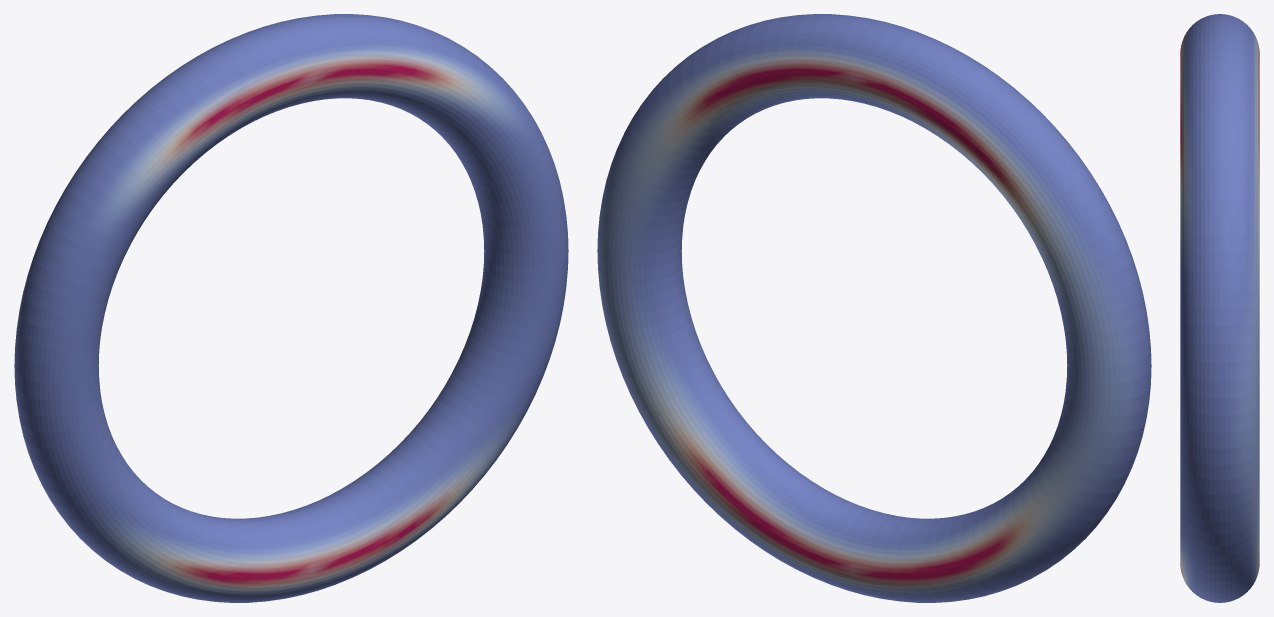
The picture shows the model from 3 angles, left to right: view 1: azimuth 30°, elevation 25°; view 2: azimuth 150°, elevation 25°; view 3: azimuth 270°, elevation 25°; orthographic projection. The views are drawn at different scales.
Visible parts, largest first — view 1: world; view 2: world; view 3: world.
Part boxes in pixels (x1,y1,x2,y2): world: (14, 14, 568, 602); world: (597, 14, 1151, 602); world: (1180, 14, 1259, 602).
Bounding box in the file's own units: 20.8 × 20.8 × 2.79.
